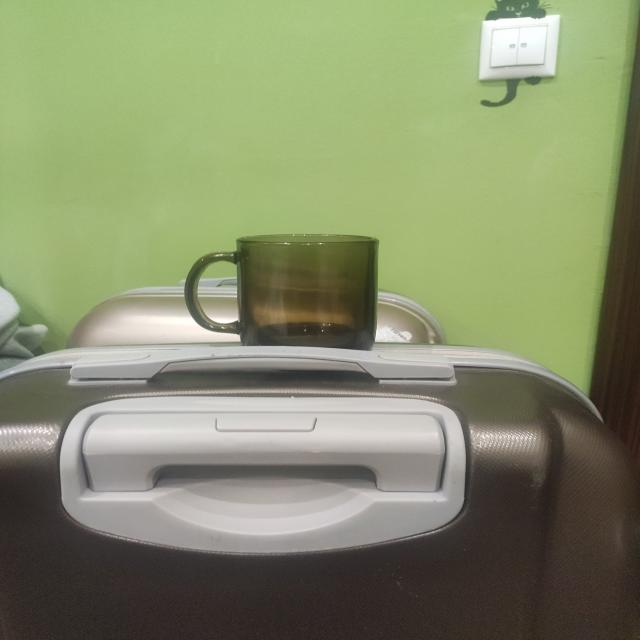cups: (179, 234, 372, 350)
